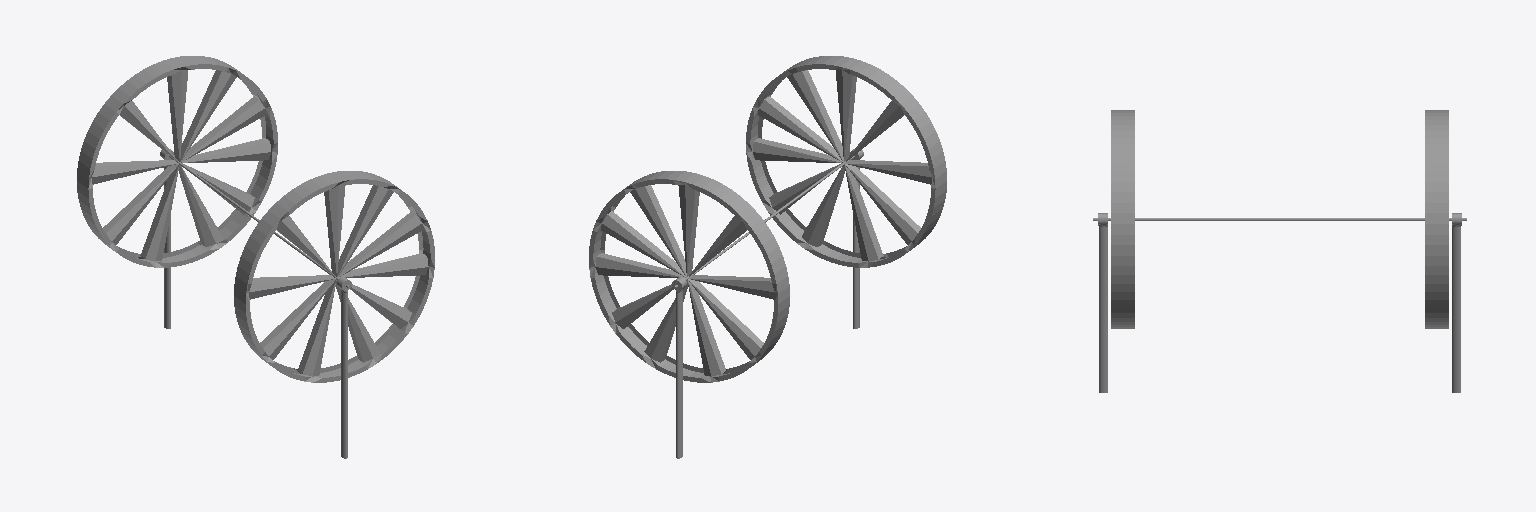
The model's file is tours.obj.
3 views of the same model, side by side, from view 1: azimuth 30°, elevation 25°; view 2: azimuth 150°, elevation 25°; view 3: azimuth 270°, elevation 25° (orthographic).
Parts seen in each view (by area): view 1: Cube; view 2: Cube; view 3: Cube.
Boxes of the visible parts, x1=… form: Cube: x1=77, y1=56, x2=434, y2=458; Cube: x1=589, y1=56, x2=946, y2=458; Cube: x1=1093, y1=110, x2=1466, y2=392.
Size of the model in its own units: 1.12 by 1.53 by 1.9.